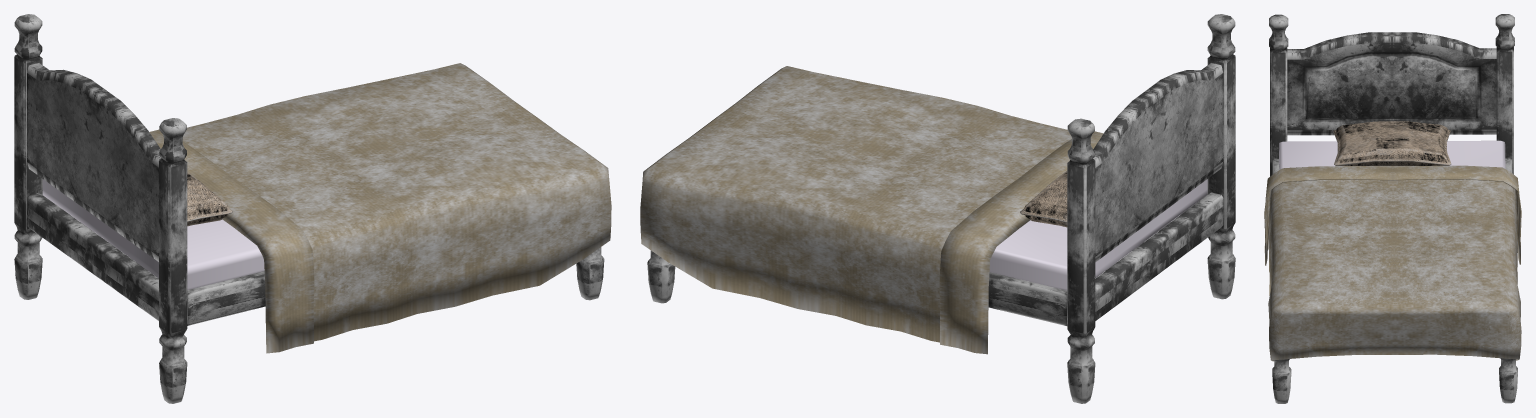
Rendered from bed.fbx.
3 views of the same model, side by side, from view 1: azimuth 30°, elevation 25°; view 2: azimuth 150°, elevation 25°; view 3: azimuth 270°, elevation 25° (orthographic). The views are drawn at different scales.
Parts seen in each view (by area): view 1: Bed; view 2: Bed; view 3: Bed.
Part boxes in pixels (left/top/right/bottom): Bed: left=14, top=14, right=611, bottom=403; Bed: left=640, top=14, right=1235, bottom=403; Bed: left=1264, top=14, right=1521, bottom=403.
Bounding box in the file's own units: 427 × 253 × 265.
